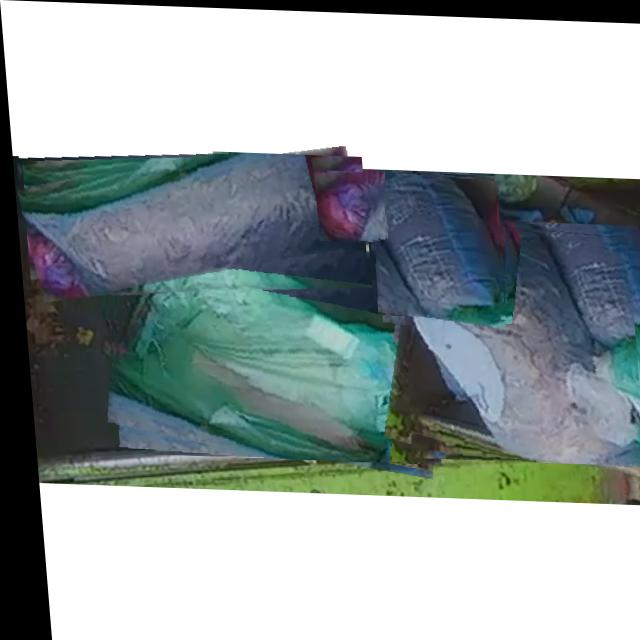general_trashbag: (107, 232, 430, 460)
other_trashbag: (398, 218, 638, 462), (20, 152, 365, 293), (371, 168, 497, 314), (313, 169, 366, 238)
